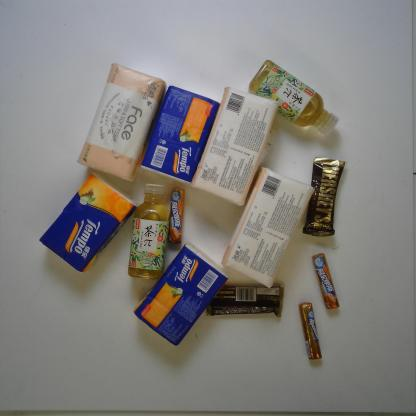Candy: (312, 249, 341, 311), (297, 301, 326, 360), (168, 186, 186, 244)
Chocolate: (302, 157, 344, 238), (210, 274, 287, 318)
Drink: (250, 60, 338, 140), (128, 183, 177, 282)
Tissue: (220, 165, 318, 291), (77, 60, 166, 184), (190, 85, 280, 207), (36, 172, 140, 272), (132, 242, 228, 344), (141, 84, 222, 186)
